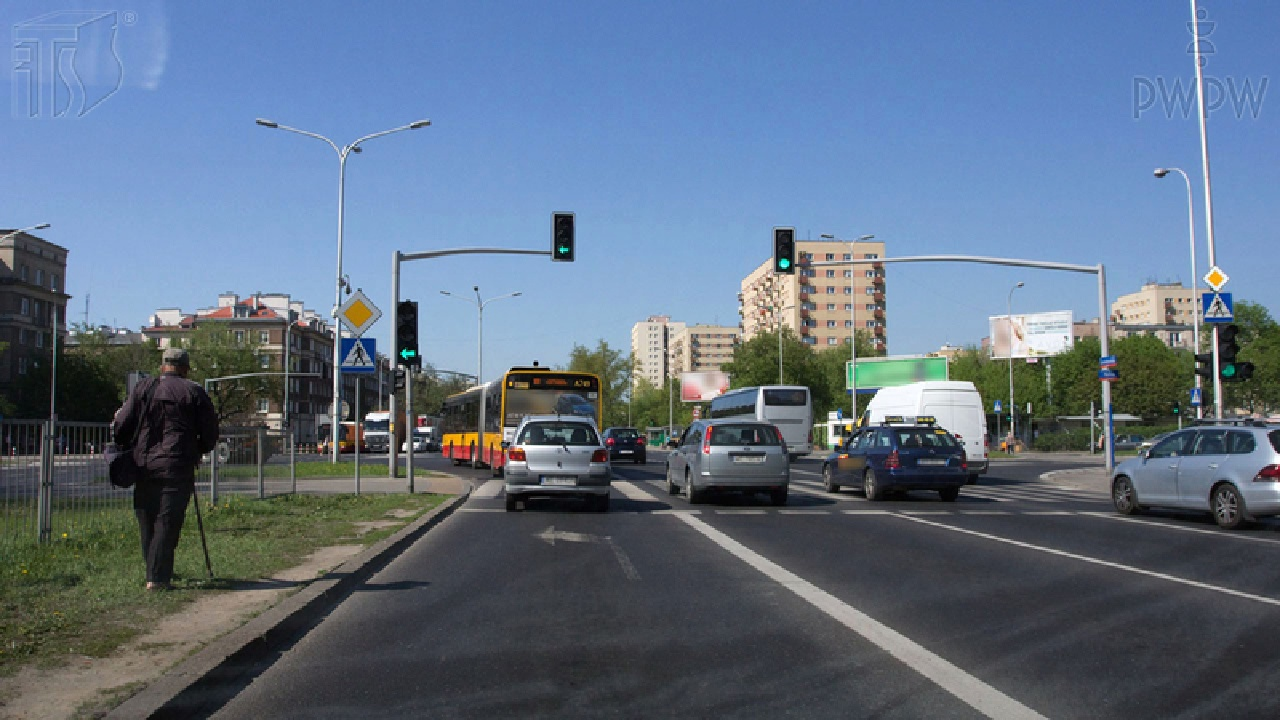D1: (336, 291, 382, 337), (1203, 266, 1229, 291)
D6: (338, 338, 375, 373), (1202, 293, 1233, 323)
Green: (397, 302, 417, 363), (1217, 323, 1235, 378), (775, 229, 792, 271), (555, 214, 570, 258)
